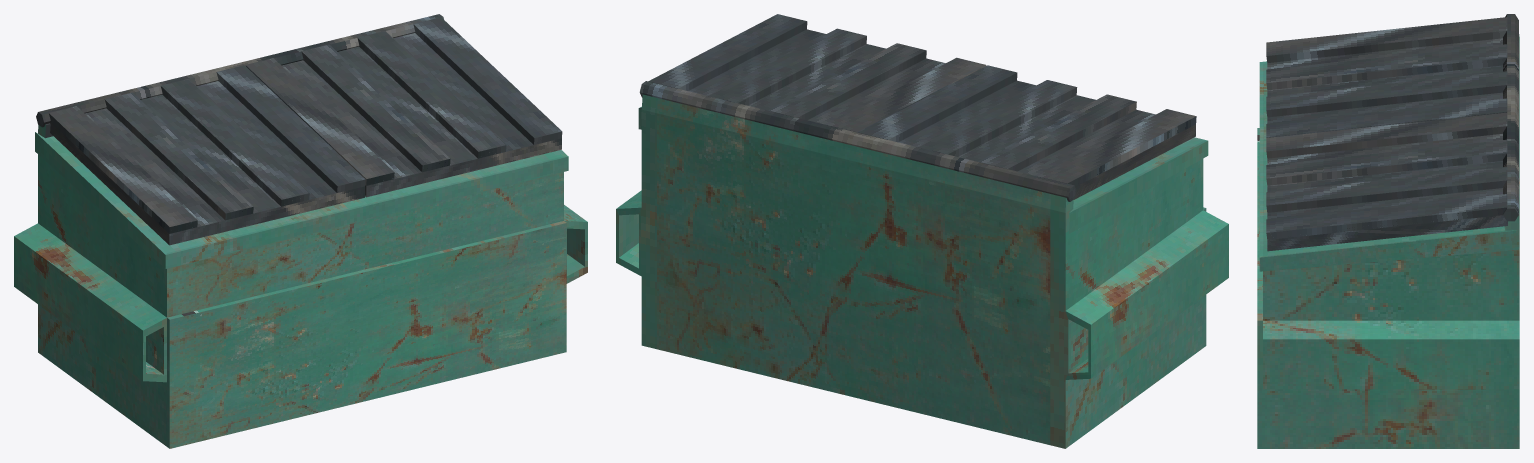
Rendered from dumpster.glb.
3 views of the same model, side by side, from view 1: azimuth 30°, elevation 25°; view 2: azimuth 150°, elevation 25°; view 3: azimuth 270°, elevation 25° (orthographic). The views are drawn at different scales.
Parts seen in each view (by area): view 1: Cube; view 2: Cube; view 3: Cube.
Part boxes in pixels (bbox=[...]): Cube: bbox=[14, 14, 587, 448]; Cube: bbox=[616, 14, 1228, 448]; Cube: bbox=[1257, 14, 1519, 448].
Bounding box in the file's own units: 4.95 × 2.58 × 2.54.
Materials: 1 (1 with a texture image).
